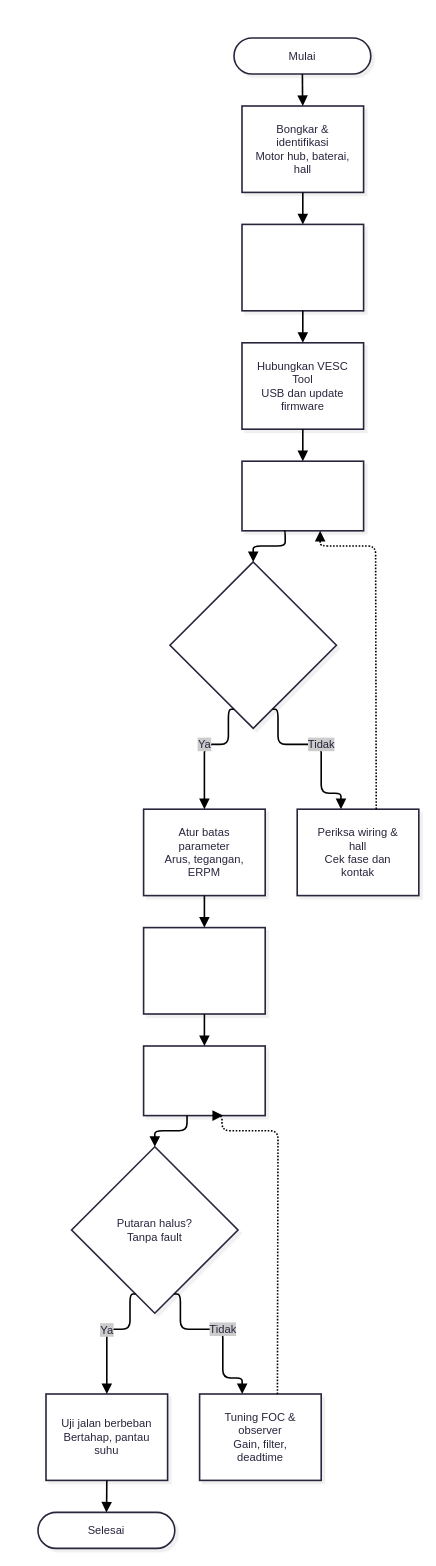
Image size: 436x1566. Some labels were removed from this diagram. The shapes that lost their labels are listed below. From the top down, each one's centre as x and y in pixels, then its label:
At point (304, 268): "Pengkabelan ke VESC Fase, hall, baterai".
At point (304, 497): "Motor setup wizard Deteksi R, L, flux".
At point (254, 646): "Deteksi berhasil? Hall dan fase OK".
At point (205, 972): "Konfigurasi kontrol PPM, ADC, atau UART".
At point (205, 1082): "Tes tanpa beban Roda terangkat, arus rendah".
